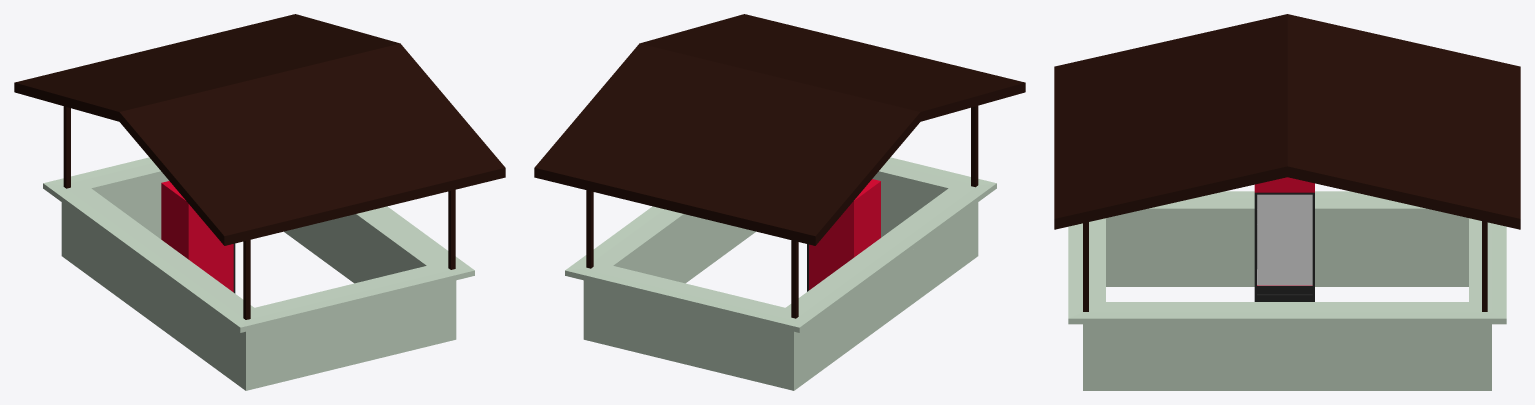
The model's file is bar.fbx.
3 renders of one model, left to right at view 1: azimuth 30°, elevation 25°; view 2: azimuth 150°, elevation 25°; view 3: azimuth 270°, elevation 25°, orthographic. The views are drawn at different scales.
Visible parts, largest first — view 1: Cube.002, Cube, Fridge, Cube.001; view 2: Cube.002, Cube, Fridge, Cube.001; view 3: Cube.002, Cube, Fridge, Cube.001.
Part boxes in pixels (bbox=[...]): Cube.002: bbox=[14, 14, 505, 245]; Cube: bbox=[43, 157, 474, 390]; Fridge: bbox=[161, 181, 235, 293]; Cube.001: bbox=[63, 106, 455, 319]; Cube.002: bbox=[534, 14, 1025, 245]; Cube: bbox=[565, 157, 996, 390]; Fridge: bbox=[807, 179, 880, 291]; Cube.001: bbox=[586, 106, 978, 318]; Cube.002: bbox=[1054, 14, 1520, 229]; Cube: bbox=[1068, 191, 1506, 390]; Fridge: bbox=[1254, 177, 1314, 301]; Cube.001: bbox=[1083, 221, 1487, 311].
Size of the model in its own units: 1250 by 935 by 1618.
